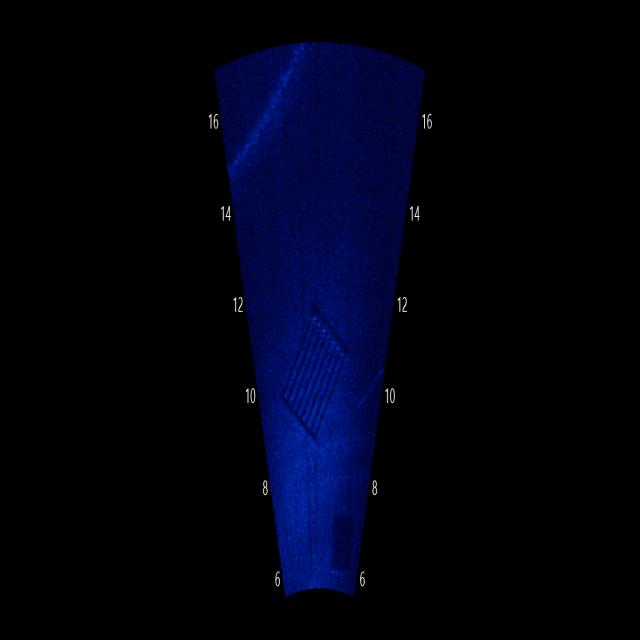square: (275, 291, 353, 461), (324, 502, 358, 582)
